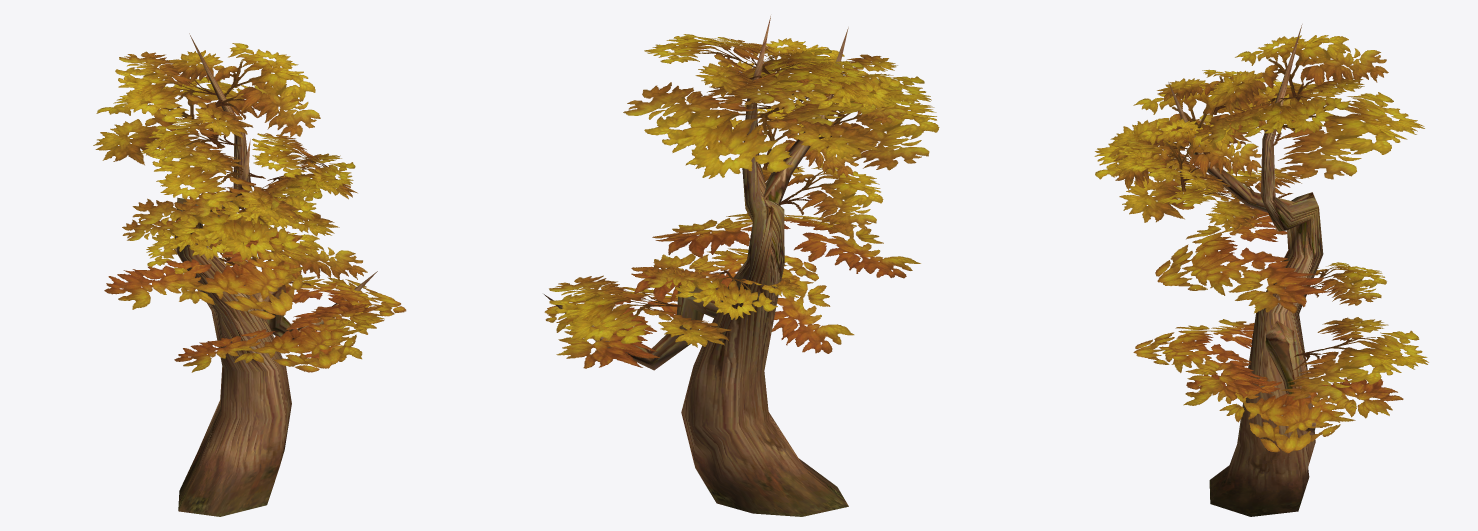
Rendered from environment_Tree_yellow_001_c.FBX.
3 views of the same model, side by side, from view 1: azimuth 30°, elevation 25°; view 2: azimuth 150°, elevation 25°; view 3: azimuth 270°, elevation 25° (orthographic). The views are drawn at different scales.
Parts seen in each view (by area): view 1: environment_Tree_yellow_001_c1, environment_Tree_yellow_001_c2; view 2: environment_Tree_yellow_001_c1, environment_Tree_yellow_001_c2; view 3: environment_Tree_yellow_001_c1, environment_Tree_yellow_001_c2.
Part boxes in pixels (<box>): environment_Tree_yellow_001_c1: <box>93,43,406,372</box>; environment_Tree_yellow_001_c2: <box>174,33,377,516</box>; environment_Tree_yellow_001_c1: <box>544,34,939,368</box>; environment_Tree_yellow_001_c2: <box>544,16,848,516</box>; environment_Tree_yellow_001_c1: <box>1094,35,1428,453</box>; environment_Tree_yellow_001_c2: <box>1168,24,1323,516</box>.
Bounding box in the file's own units: 709 × 860 × 717.
Materials: 2 (2 with a texture image).
